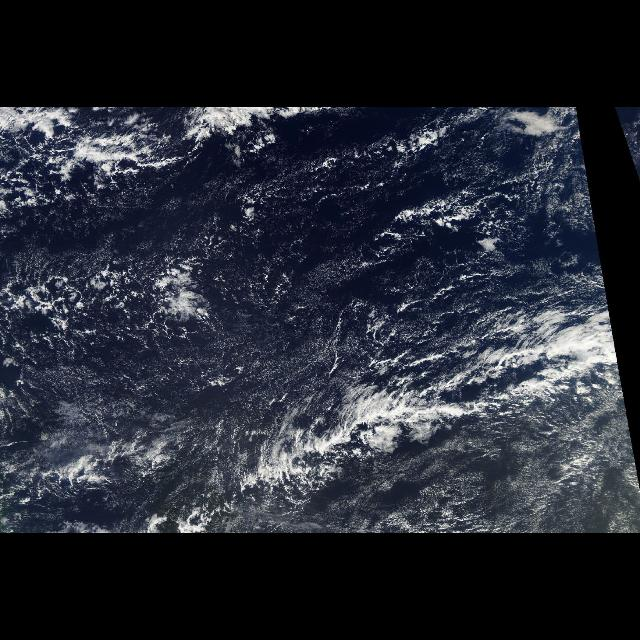Fish: (177, 324, 583, 506)
Gravel: (0, 222, 234, 392)
Sugar: (33, 255, 339, 432), (481, 410, 639, 532)
